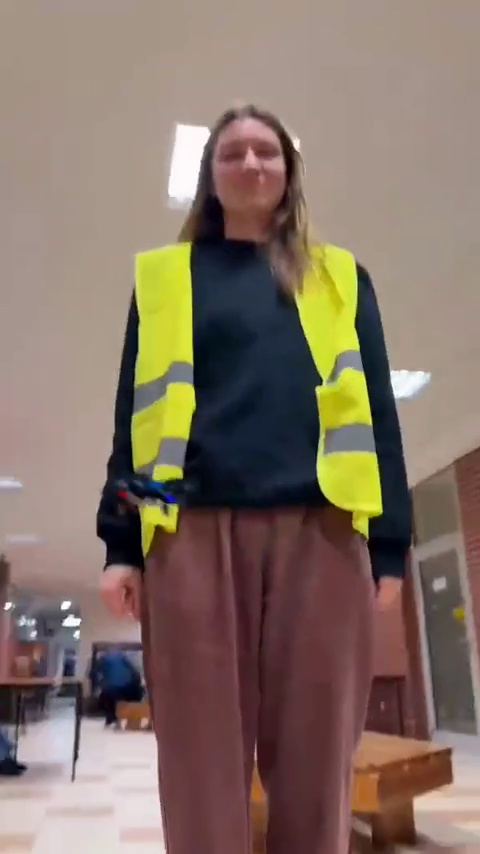drone: (113, 472, 197, 512)
vest: (89, 97, 414, 844)
